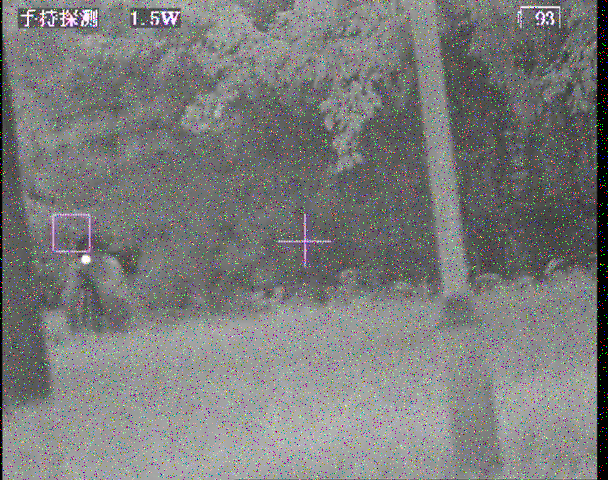my: (79, 252, 92, 267)
